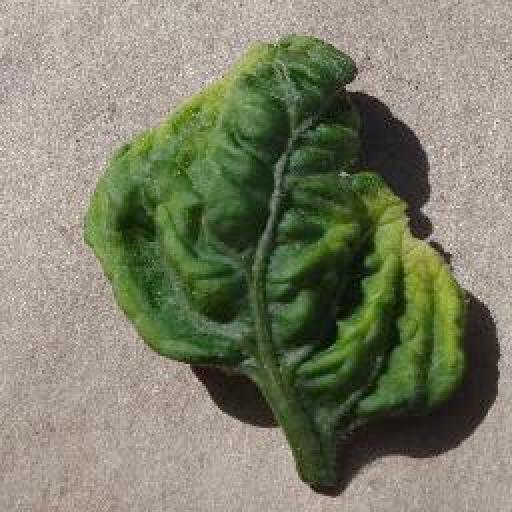disease_tomato: (88, 34, 470, 456)
